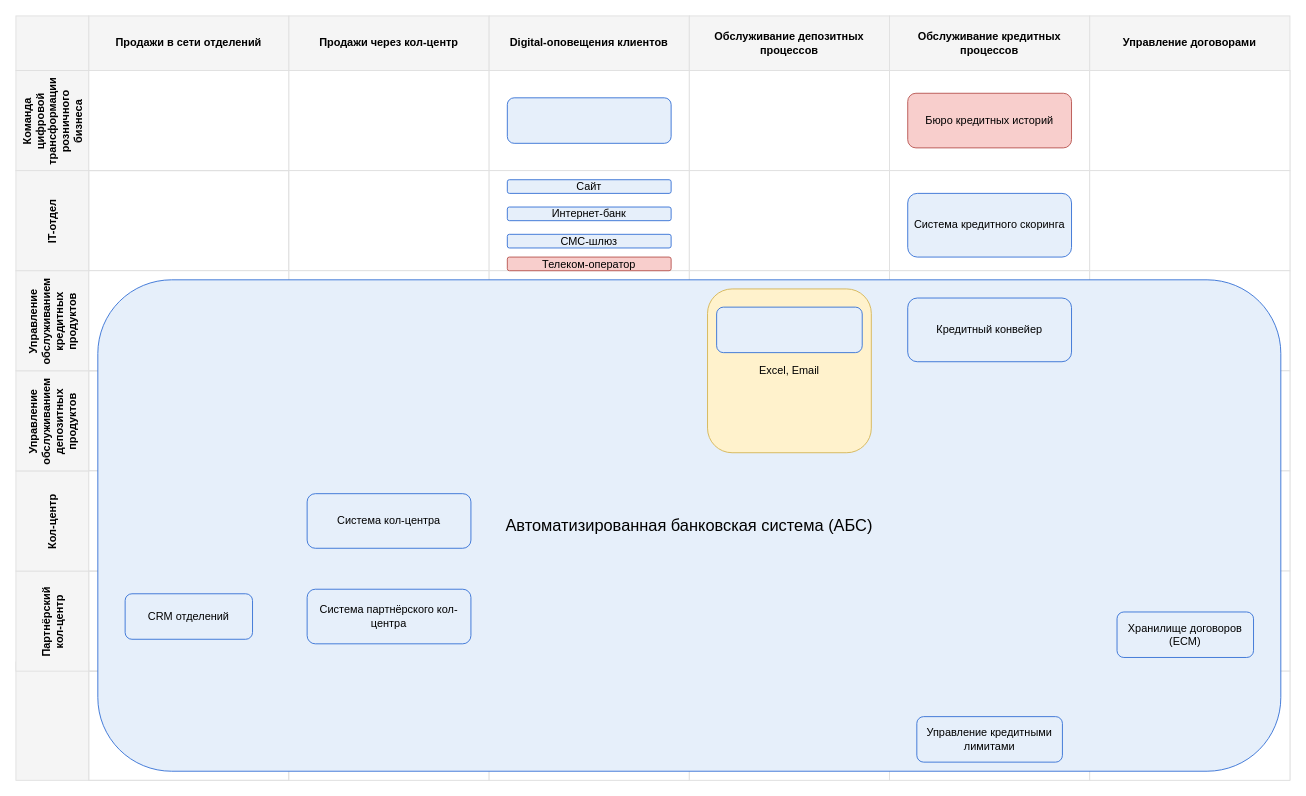
Image size: 1306x796. Some labels were removed from this diagram. The shapes that lost their labels are listed below. From the top down, each one's centre as x and y in pixels, then its label:
At pixel 588 120: "Система ДБО".
At pixel 789 329: "Система управления депозитами".
At pixel 52 720: "Управление обслуживанием в сети отделений".
